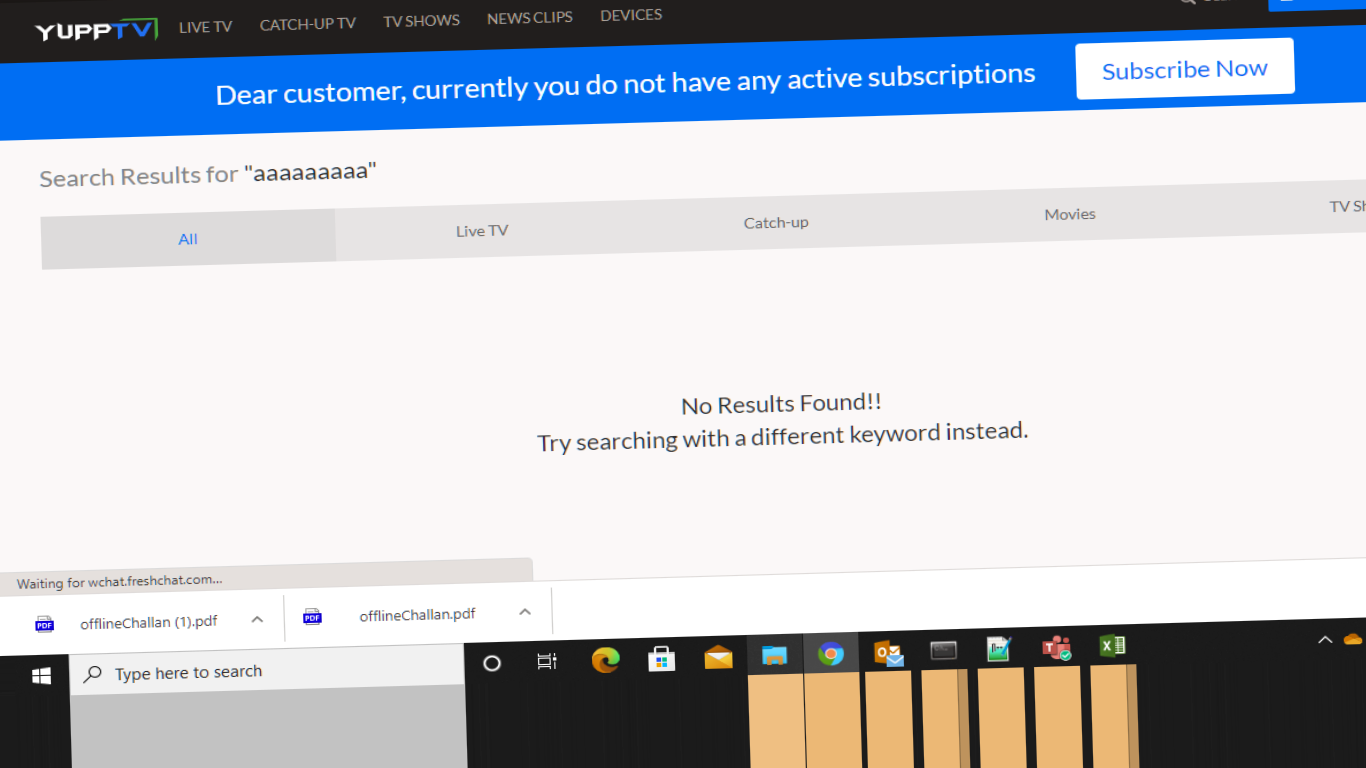noresultsfound: (498, 364, 1066, 463), (26, 156, 400, 220)
